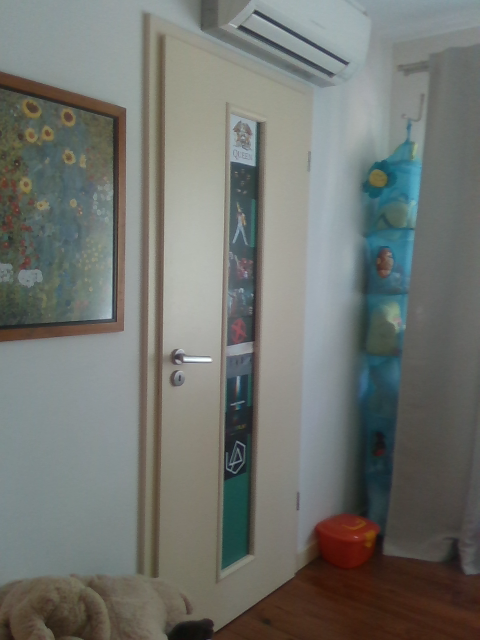closed: (142, 16, 312, 628)
